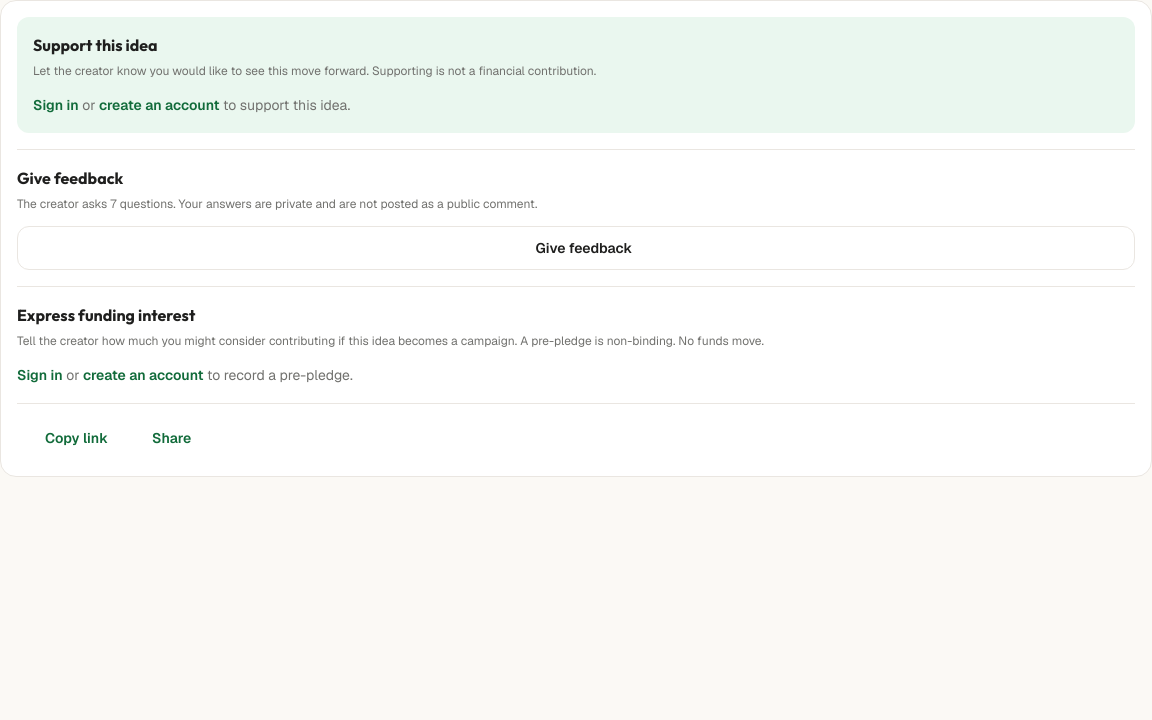
Test: IdeaActions › gates submission behind sign-in for a visitor without losing answers
Click the button "Give feedback" at (576, 248), box [17,226,1135,270]
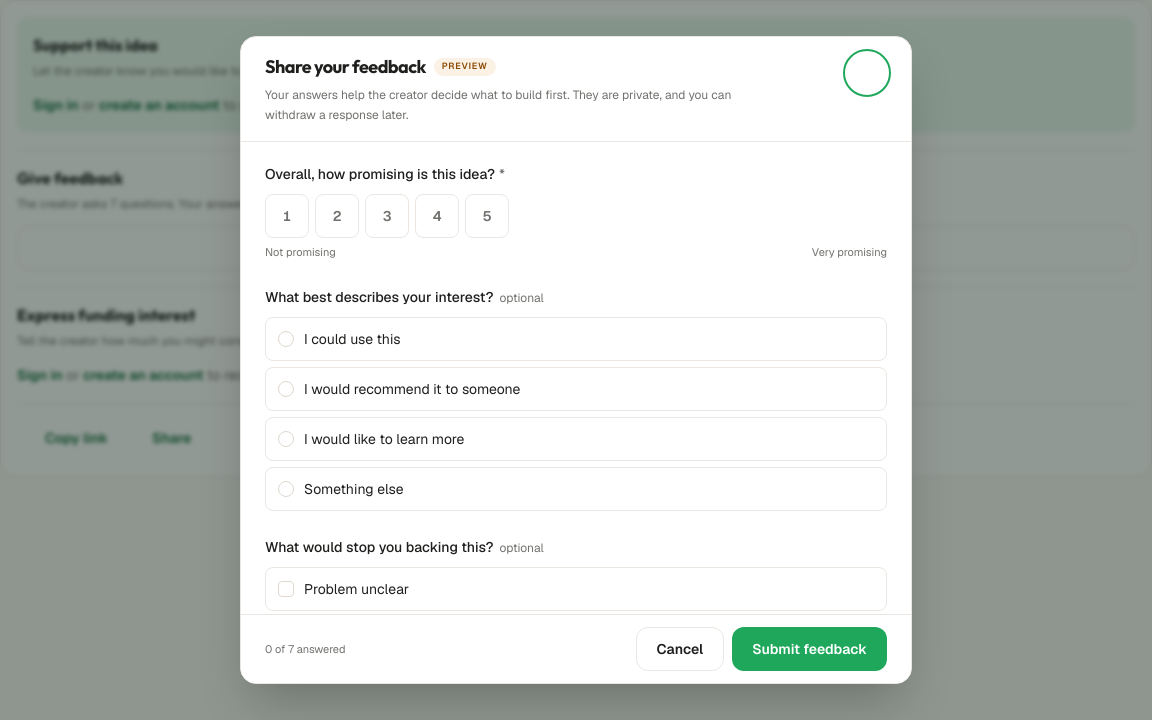
Click the radio button named "5 of 5" at (487, 216), box [465,194,509,238]
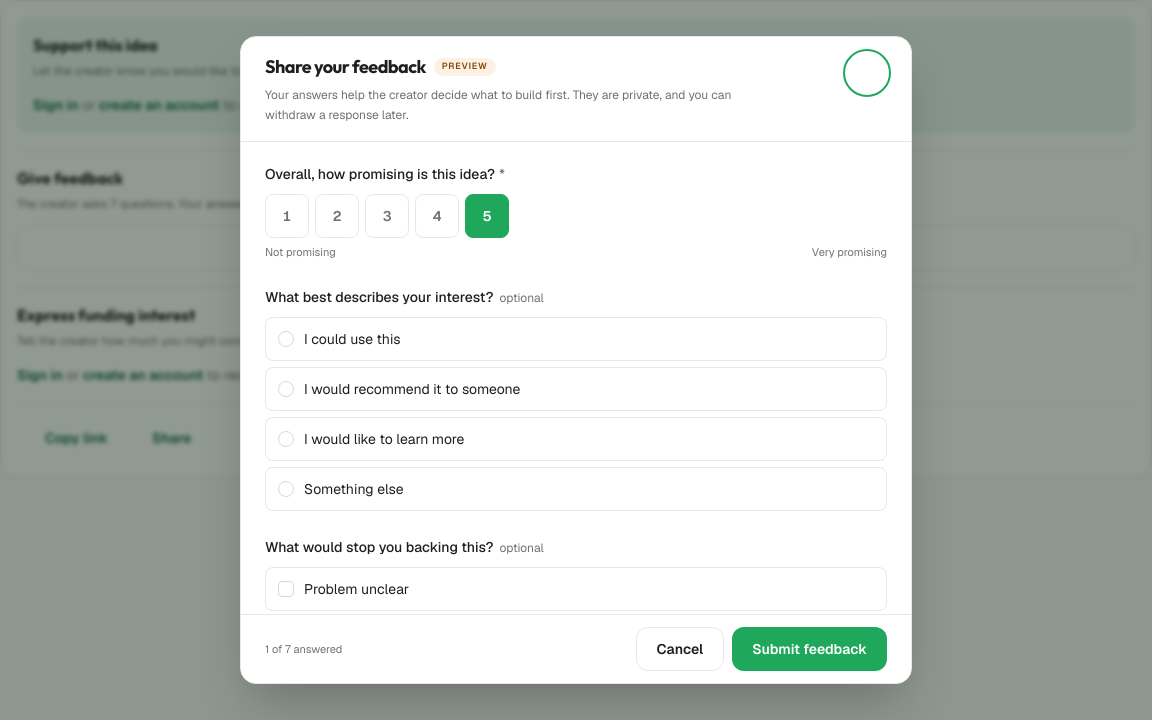
Click the button "Submit feedback" at (810, 649), box [732,627,887,671]
(page scrolled)
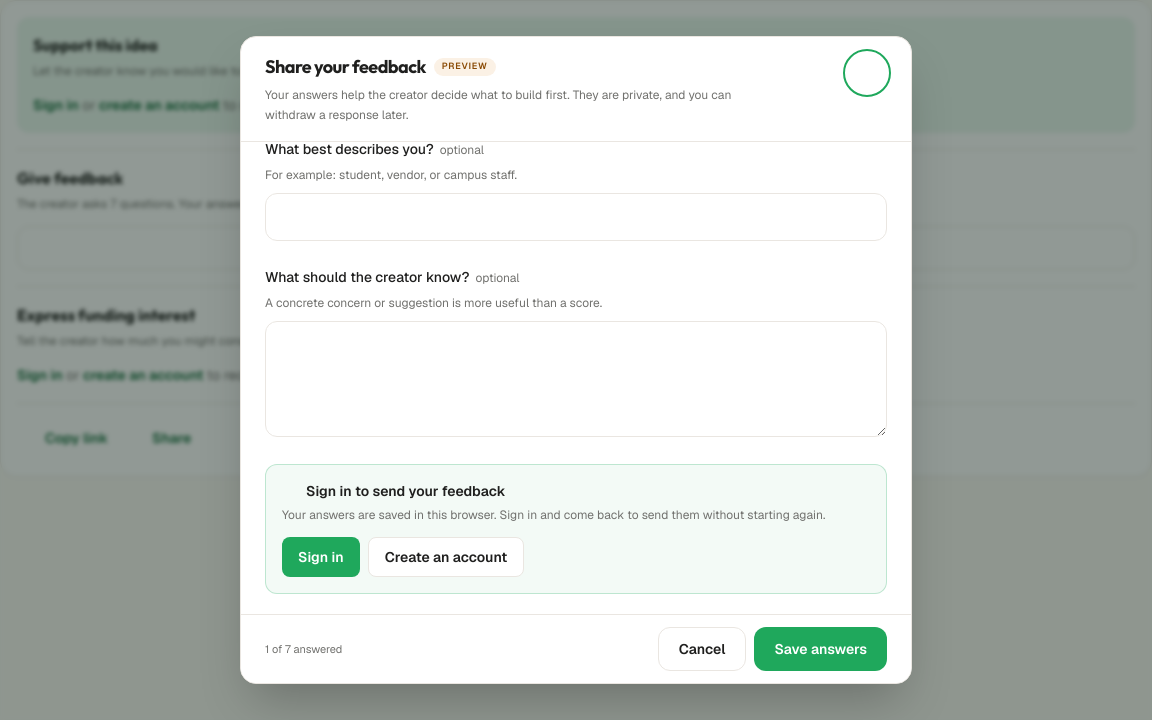
Now the text "Sign in to send your feedback" is shown, box [306,482,506,500]
